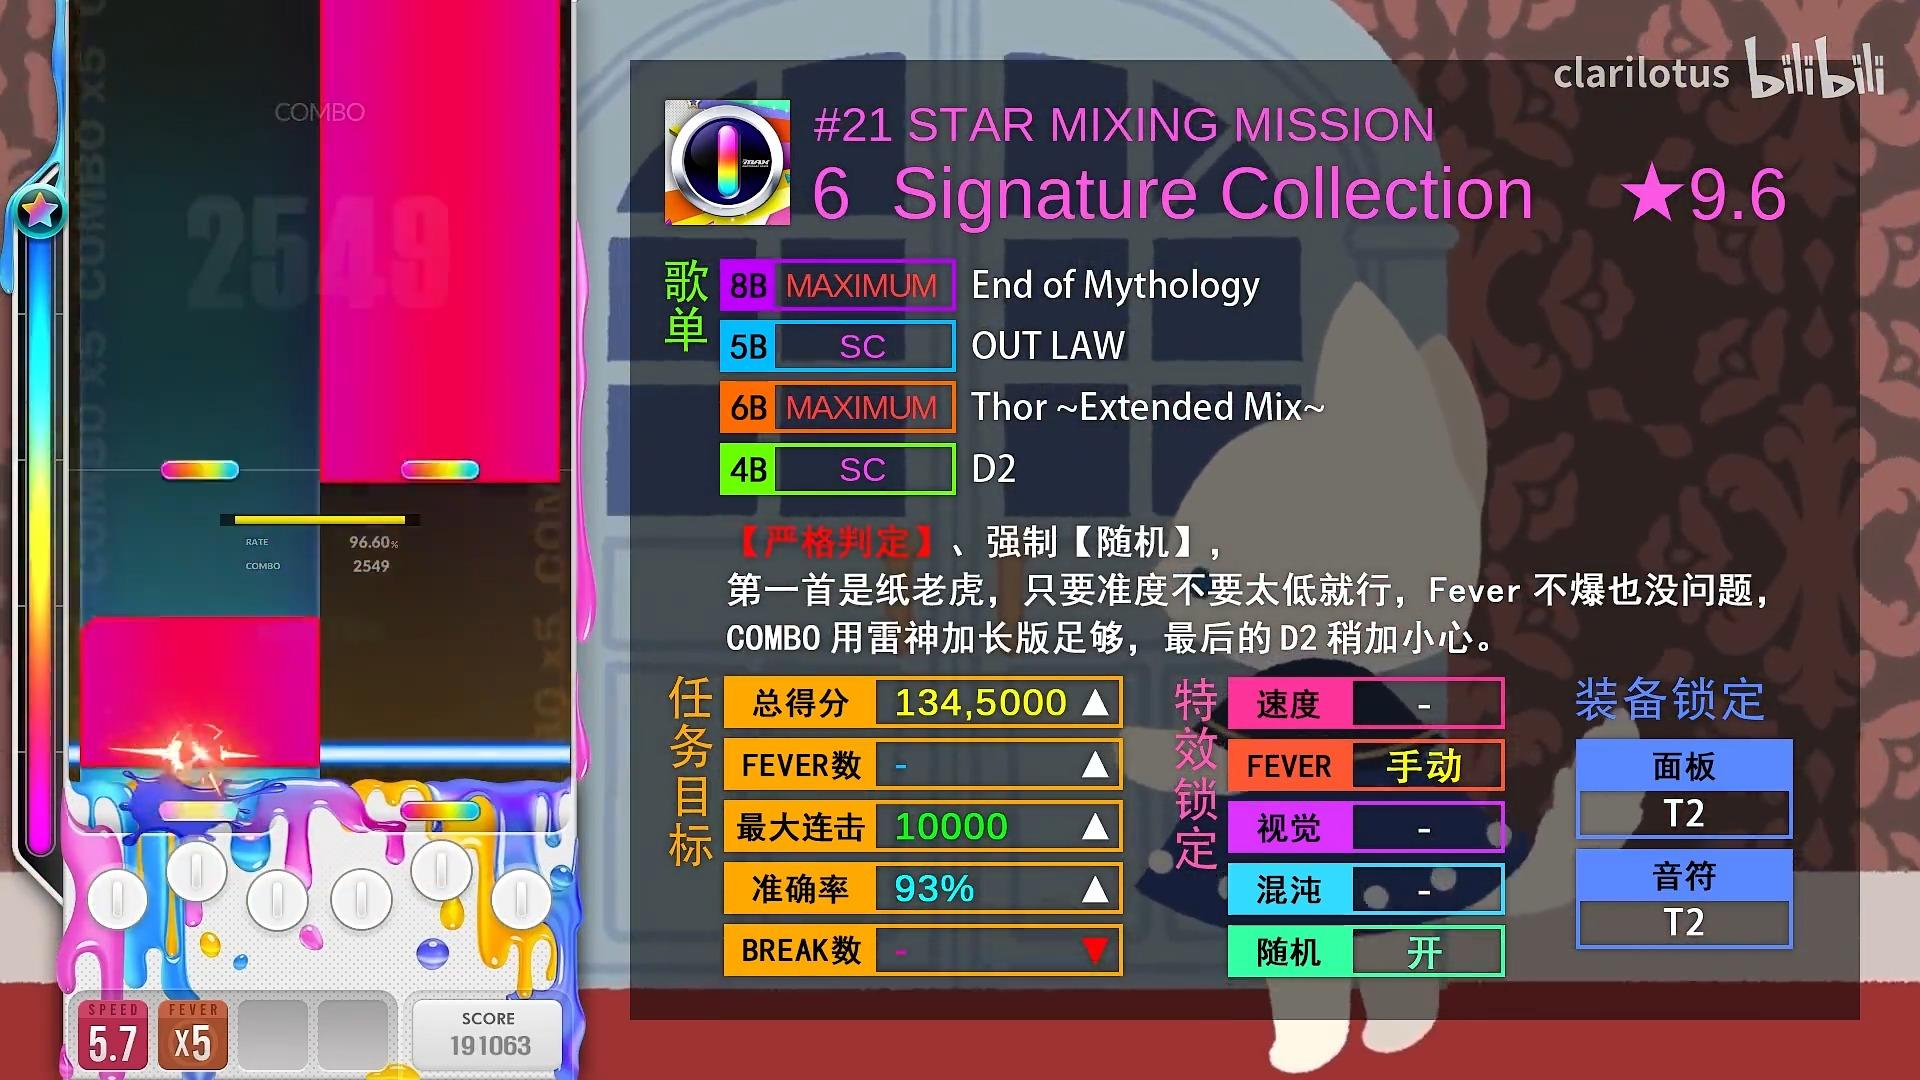note: (401, 460, 480, 480), (161, 460, 240, 480)
xend: (79, 617, 320, 640)
xstart: (319, 458, 560, 484)
